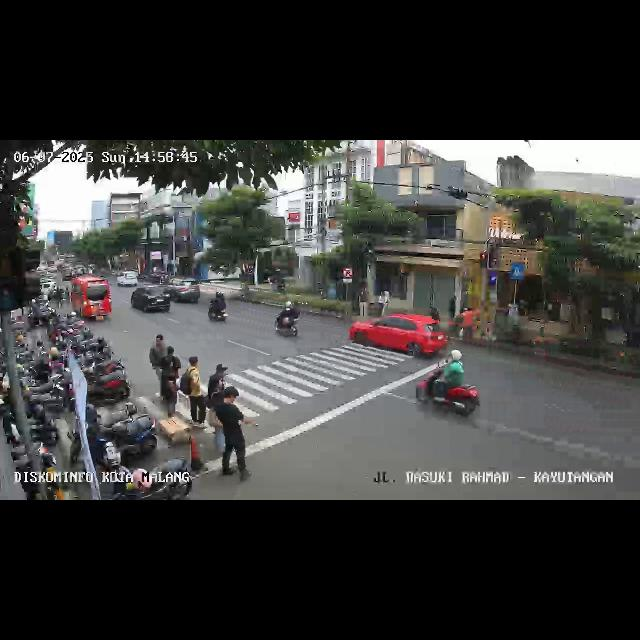car: (348, 311, 449, 363), (70, 276, 111, 322), (130, 284, 172, 316), (168, 279, 200, 305), (116, 271, 138, 287)
motorcycle: (418, 352, 482, 422), (274, 300, 302, 340), (208, 292, 230, 324)
person: (211, 388, 249, 477), (205, 362, 229, 453), (160, 346, 182, 418), (148, 333, 172, 391), (185, 355, 202, 429), (462, 306, 481, 342), (359, 286, 369, 318), (448, 296, 457, 322), (382, 292, 390, 316)
